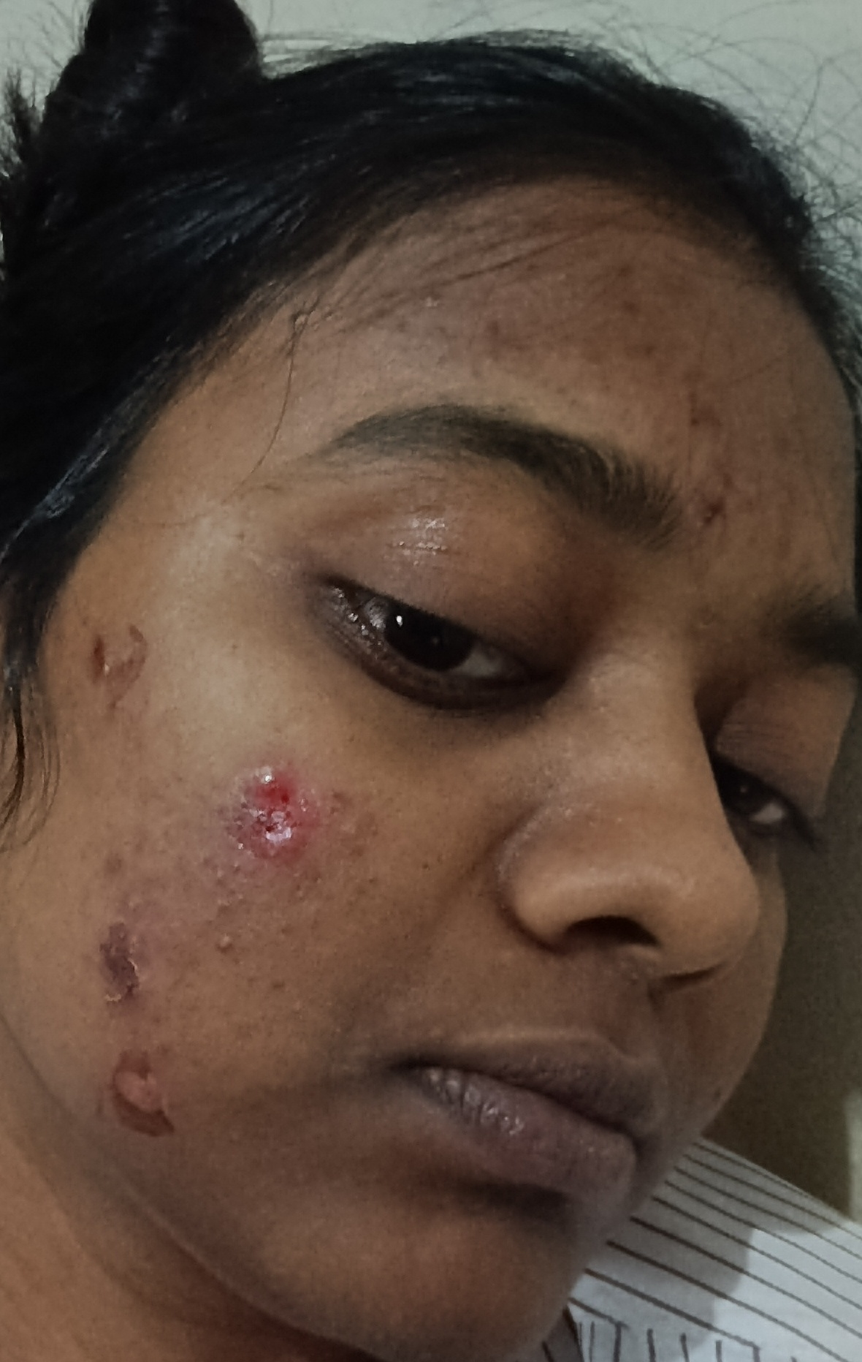cyst: (216, 755, 347, 881)
pustule: (210, 908, 250, 973)
